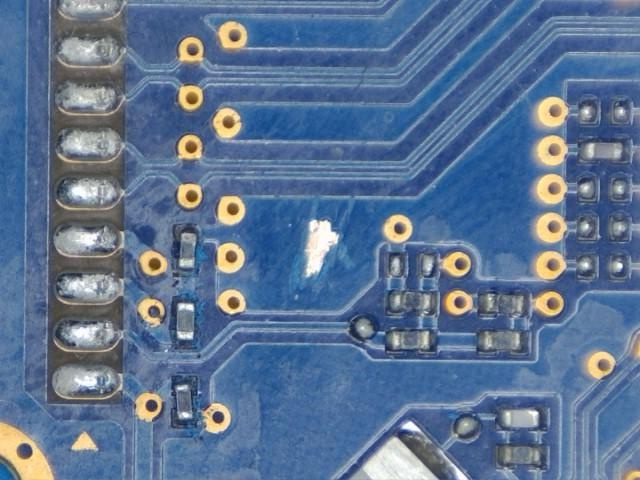pcb_defect: (52, 363, 120, 399), (55, 126, 123, 162), (53, 222, 122, 257), (53, 174, 121, 209), (55, 80, 123, 115), (56, 33, 123, 67), (55, 272, 123, 304), (56, 319, 121, 351), (305, 221, 340, 277), (58, 0, 123, 19)
